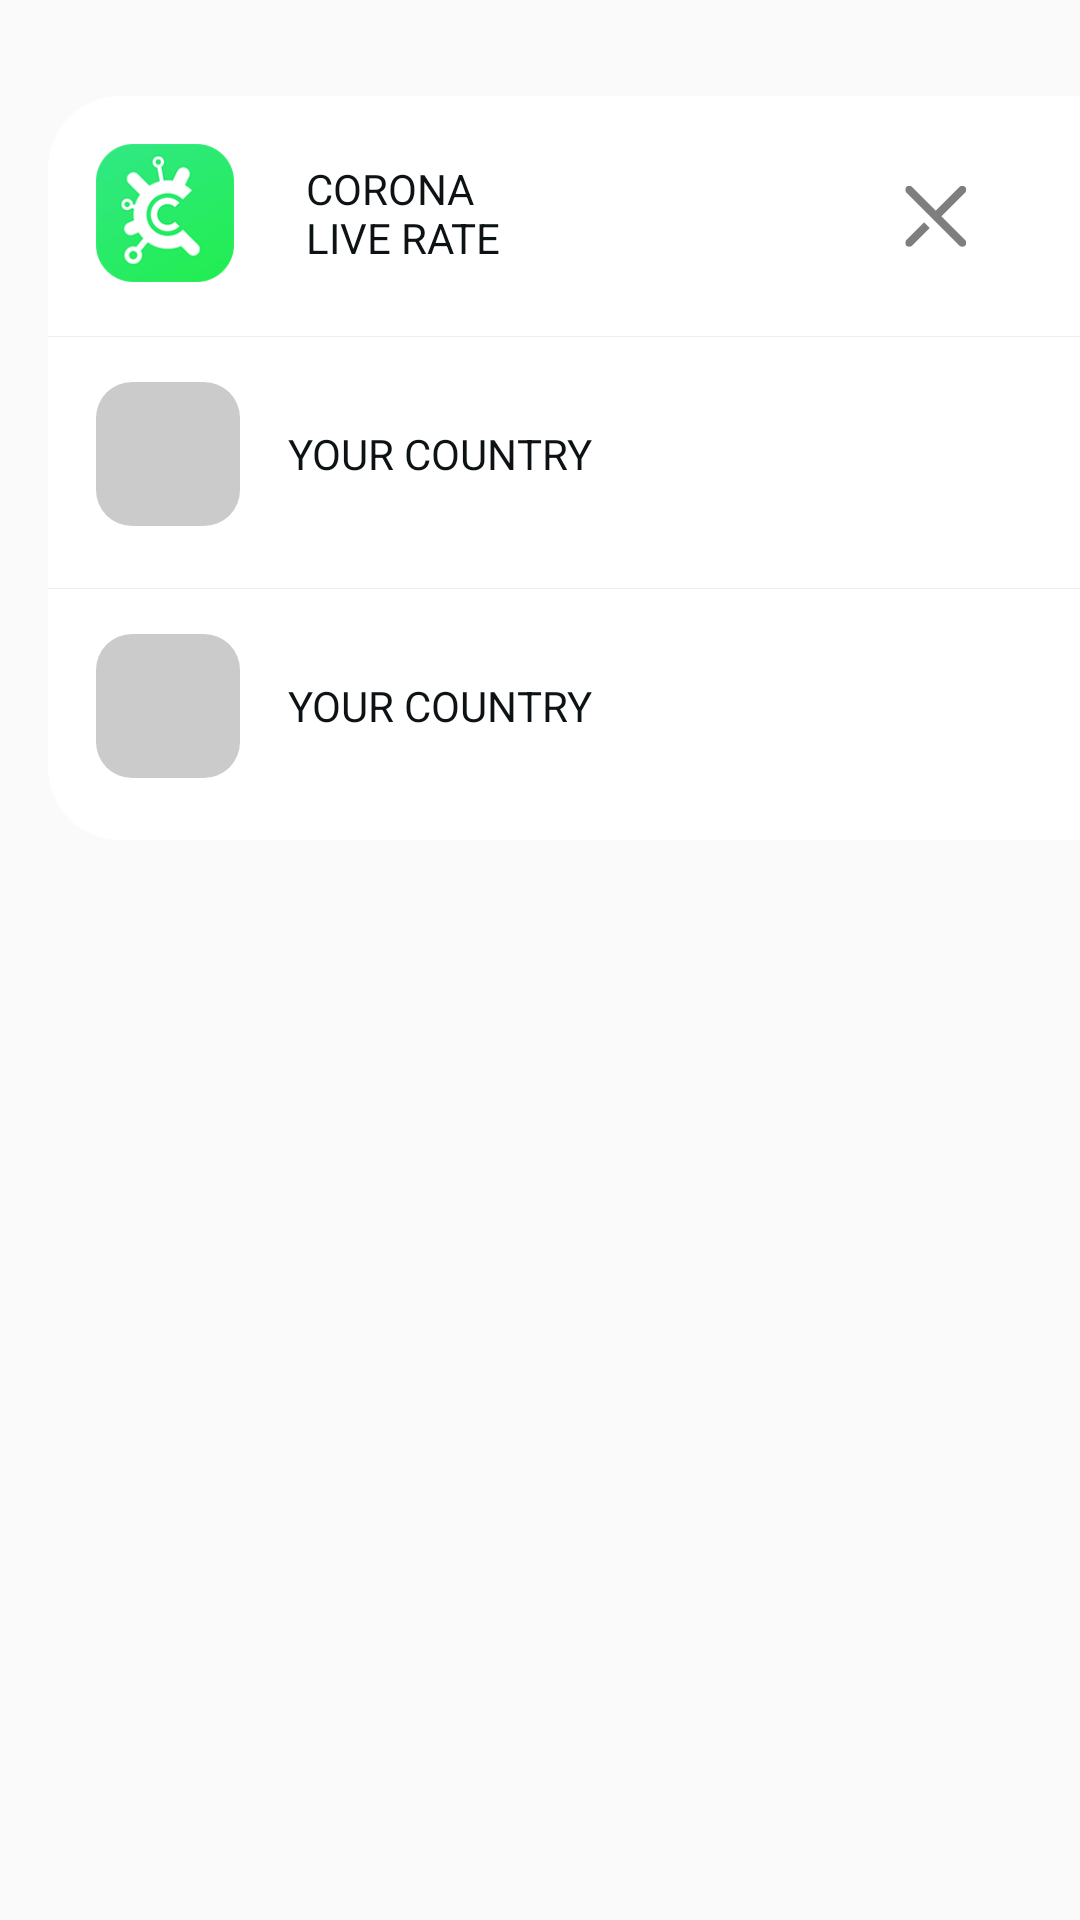

Screen size 1080x1920. Icon name, then its box in pixels as (x1, y1, x2, y2):
close: (905, 186, 966, 247)
